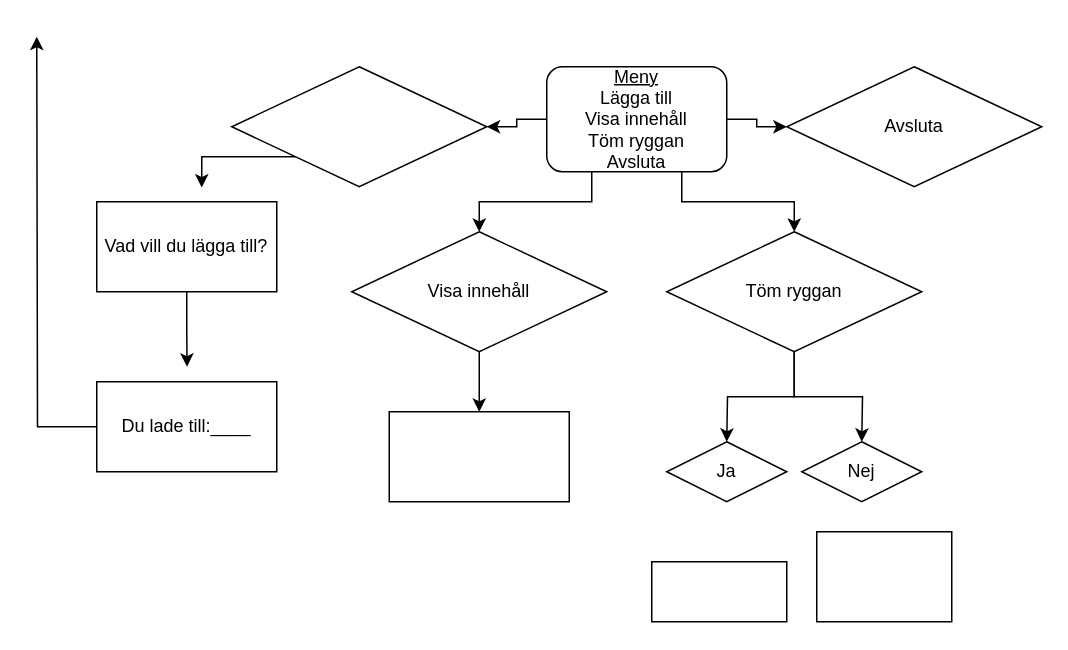
The diagram is 1068 pixels wide and 650 high, and some of its shapes have lost their labels. The centre of each missing label's shape, as x and y in pixels:
Du valde att inte tömma väskan. Innehållet är fortfarande:___: the point at 883,576
Lägga till: the point at 358,126
Väskan innehåller:_____: the point at 478,456
Väskan töms. Ditt innehåll är nu: tomt: the point at 718,591
